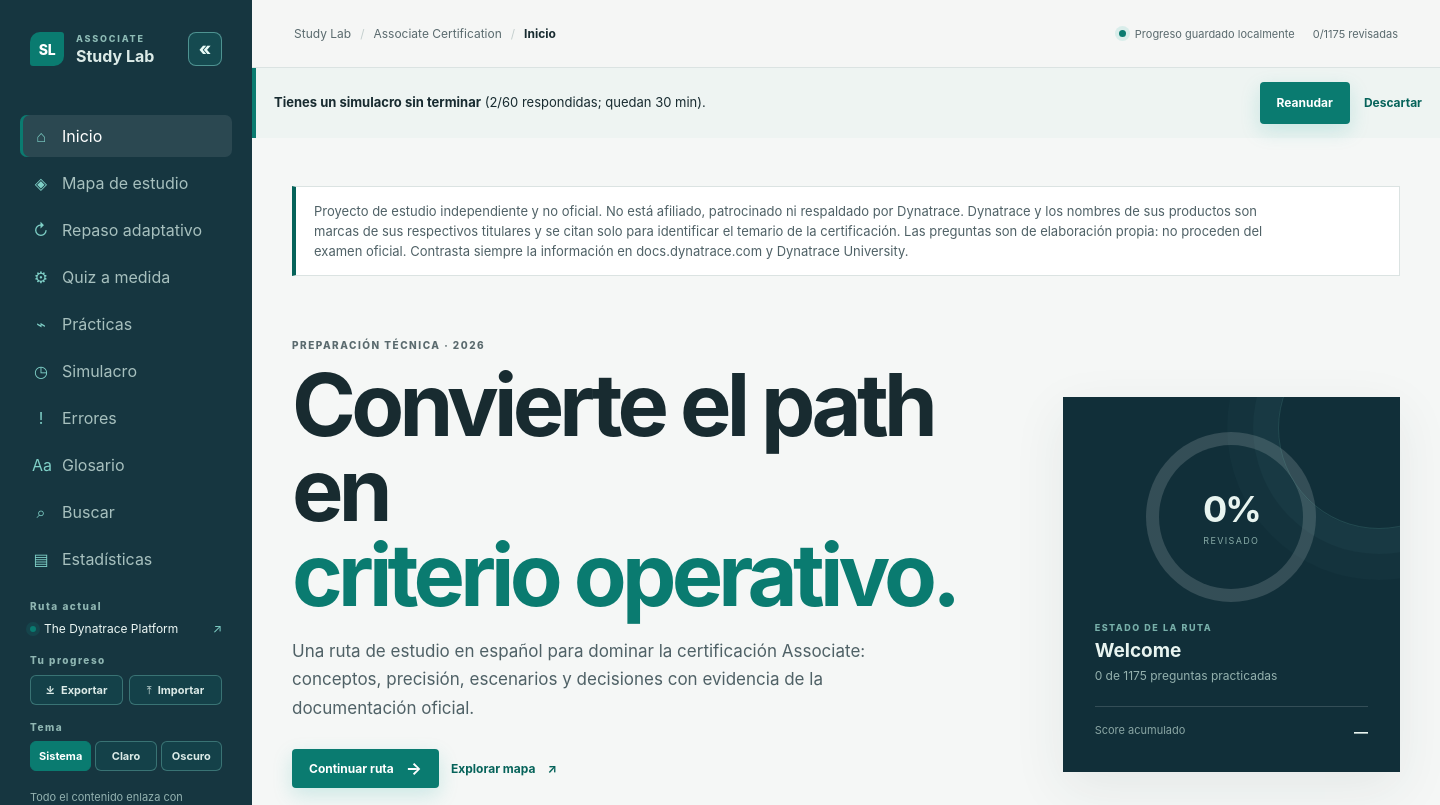
Test case: simulacro robusto › Simulacro con una sesión guardada ofrece reanudar o descartar y empezar otro
Click the button "◷ Simulacro".
click(126, 371)  # box 20,350 -> 232,392
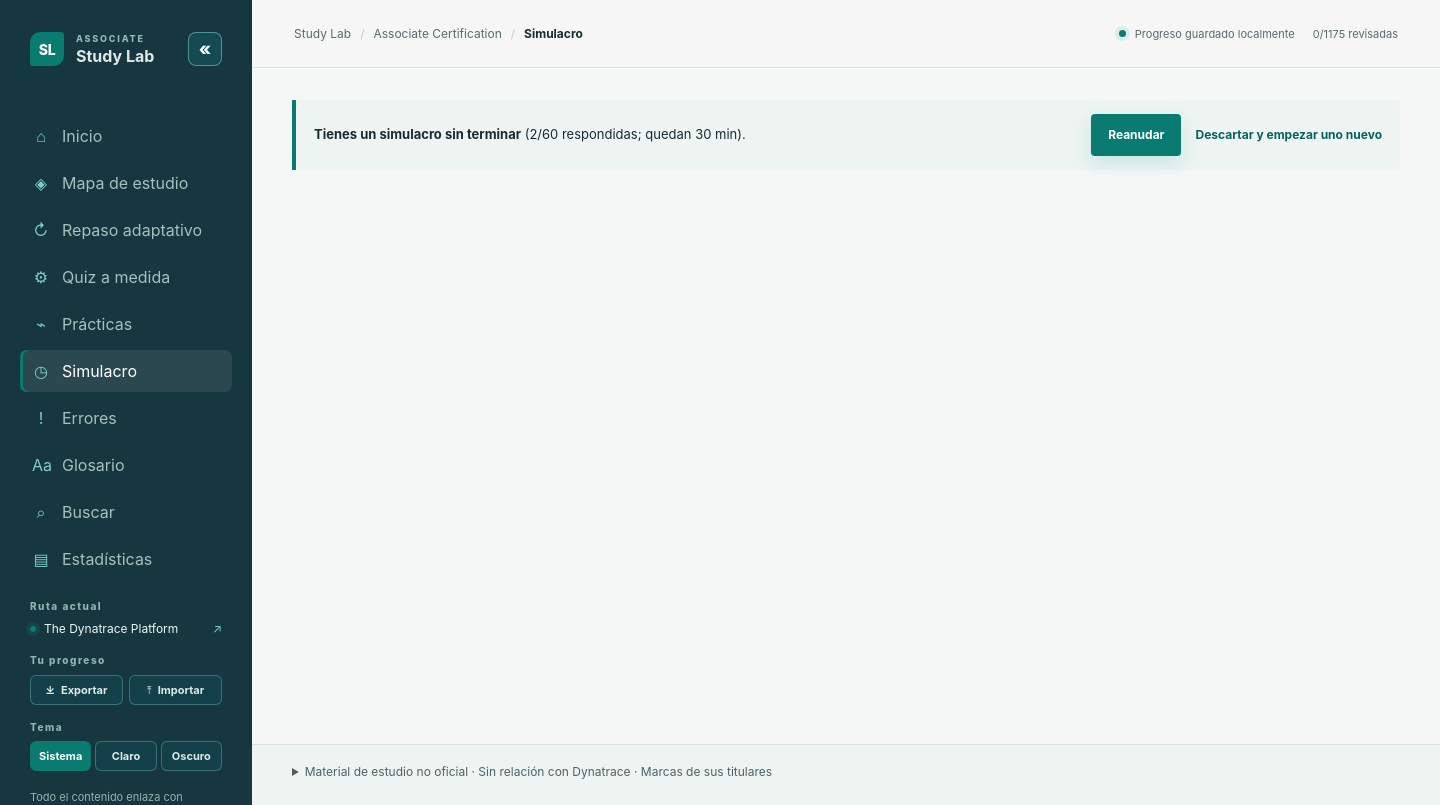
Click the button "Descartar y empezar uno nuevo".
click(1289, 135)  # box 1196,118 -> 1382,152
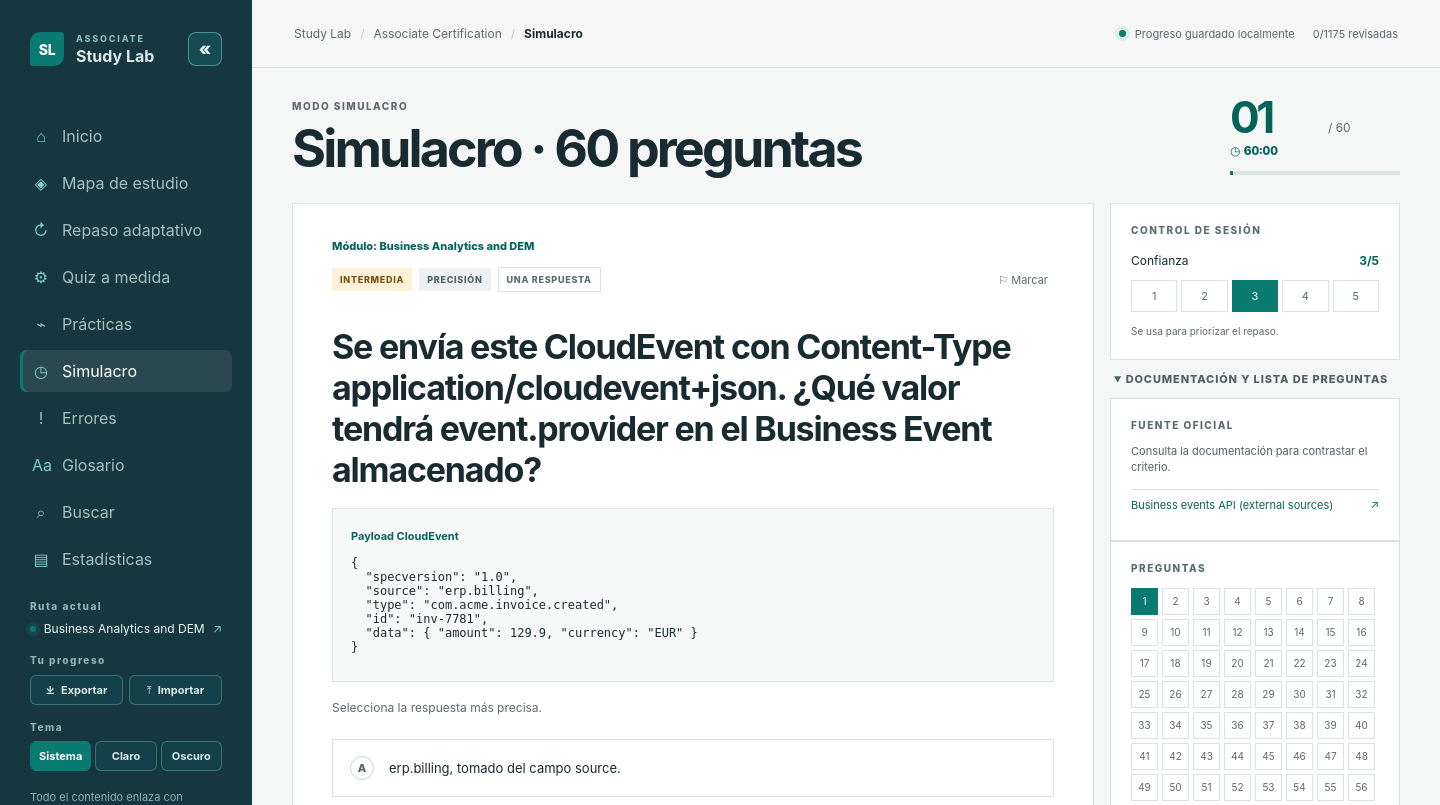
Expected: the text "01" is shown, 1230,90 -> 1272,144
